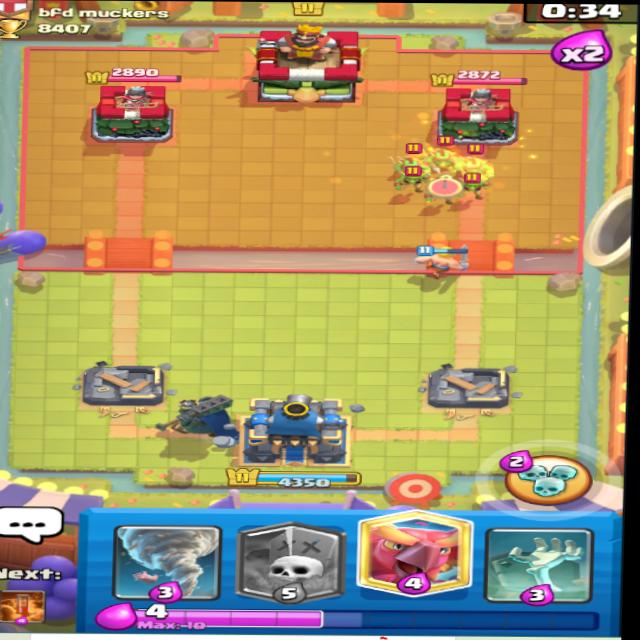goblin: (460, 172, 505, 200), (432, 173, 463, 200), (391, 166, 429, 187)
spear-goblin: (384, 143, 432, 173), (427, 136, 464, 169), (464, 155, 498, 174)
